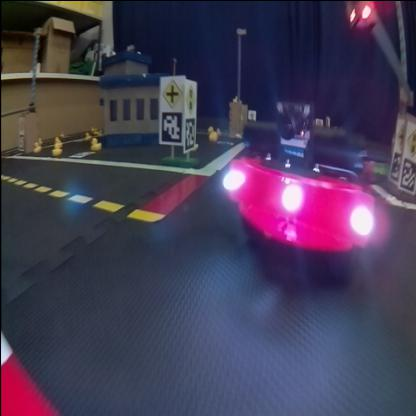Duckie: (52, 142, 62, 154), (92, 136, 100, 149), (209, 131, 217, 139), (35, 143, 40, 151), (85, 130, 89, 138), (60, 130, 64, 136)
Duckiebot: (226, 102, 373, 258)
Intersection sign: (162, 78, 181, 106)
QR code: (160, 111, 182, 143), (400, 160, 416, 192), (184, 117, 196, 149), (390, 152, 400, 180)
Signal sign: (405, 120, 415, 157), (184, 82, 196, 112)
Traffic light: (350, 2, 378, 31)
